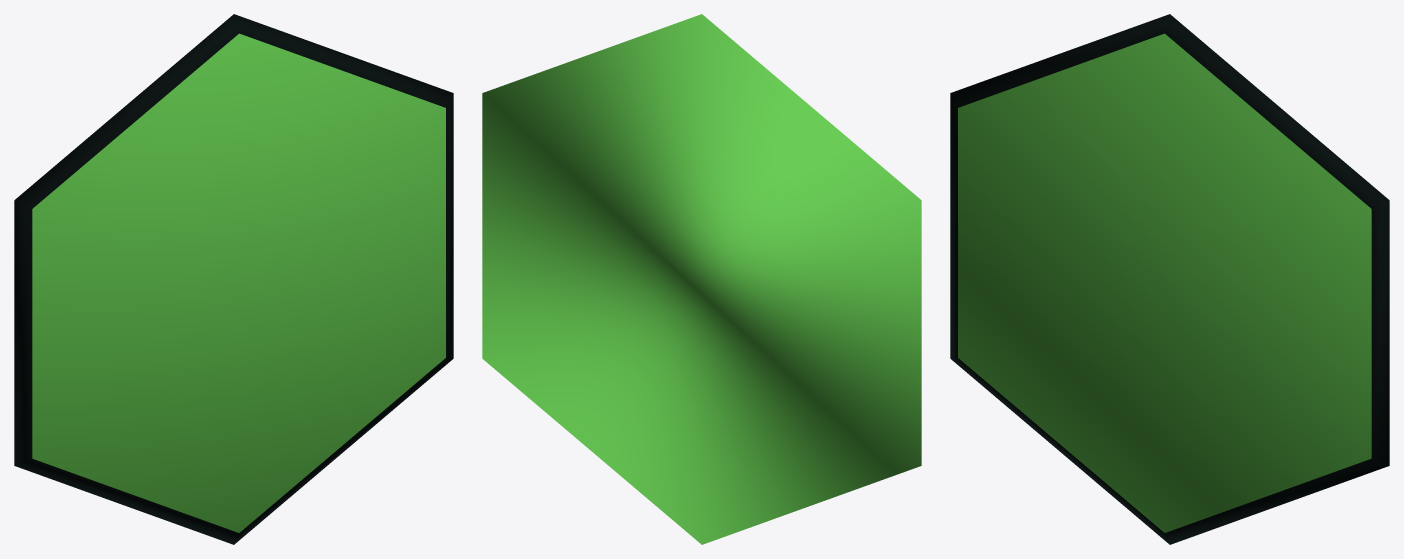
Rendered from sixangle2 1.fbx.
The picture shows the model from 3 angles, left to right: view 1: azimuth 30°, elevation 25°; view 2: azimuth 150°, elevation 25°; view 3: azimuth 330°, elevation 25°; orthographic projection.
Visible parts, largest first — view 1: Cylinder.001; view 2: Cylinder.001; view 3: Cylinder.001.
Part boxes in pixels (bbox=[...]): Cylinder.001: bbox=[14, 14, 453, 544]; Cylinder.001: bbox=[482, 14, 921, 544]; Cylinder.001: bbox=[950, 14, 1389, 544].
Size of the model in its own units: 1207 by 1394 by 24.93.
